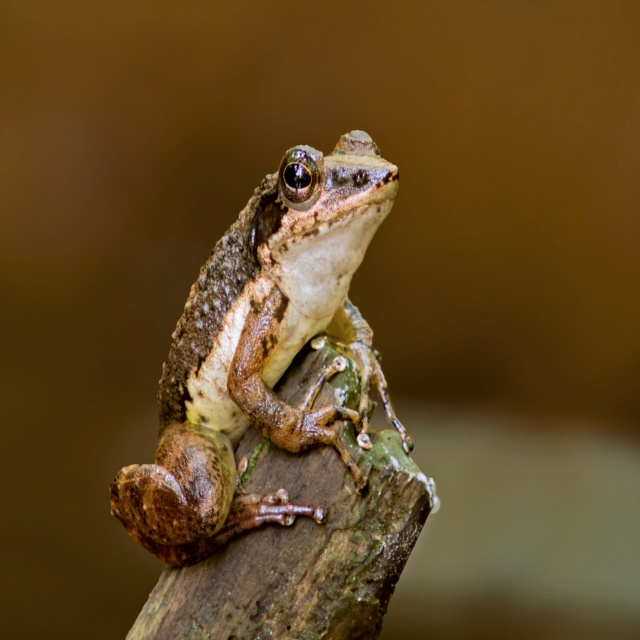Frog: (110, 129, 415, 569)
